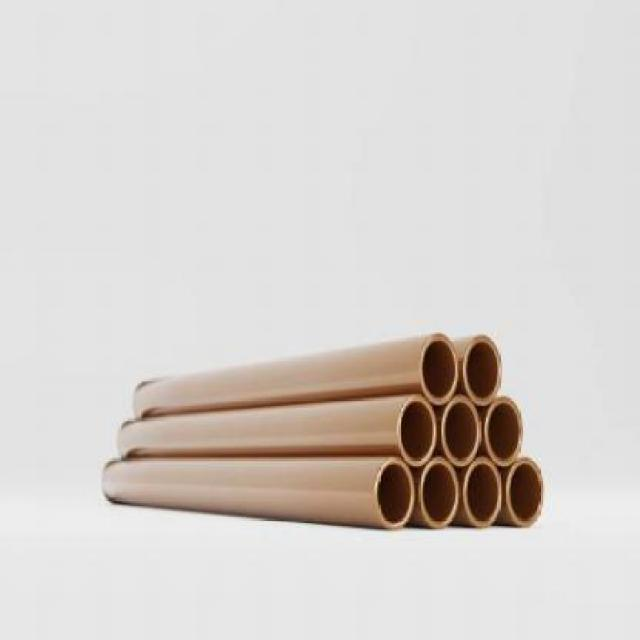pipe: (419, 332, 459, 405), (463, 334, 503, 407), (397, 395, 437, 468), (441, 396, 481, 467), (375, 458, 415, 529), (464, 456, 502, 529), (420, 456, 458, 529), (506, 456, 544, 527), (485, 397, 524, 466)
